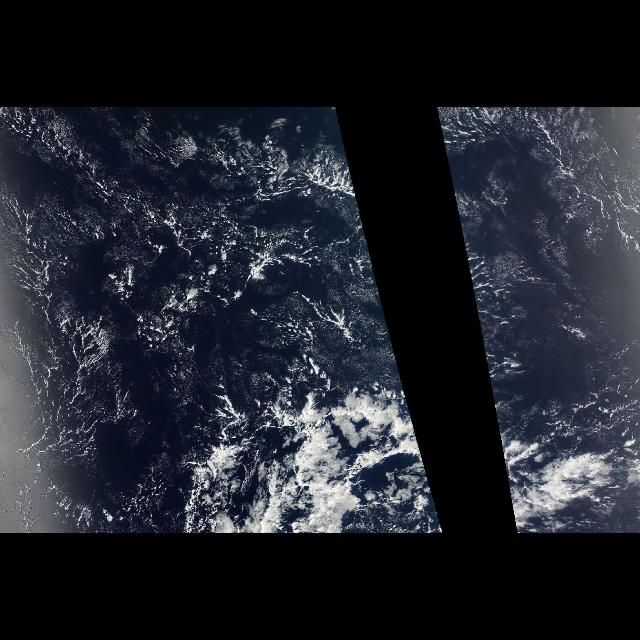Gravel: (4, 120, 383, 434)
Sugar: (5, 111, 215, 277), (464, 109, 636, 283)
